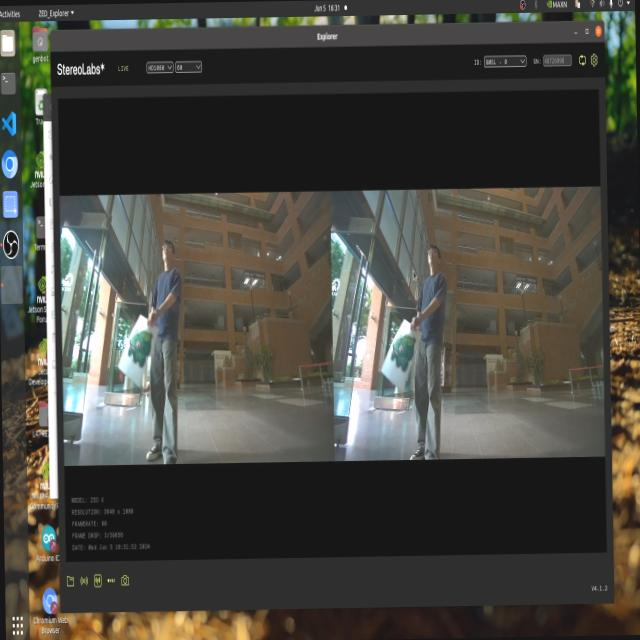green: (392, 332, 416, 384), (126, 322, 153, 364)
